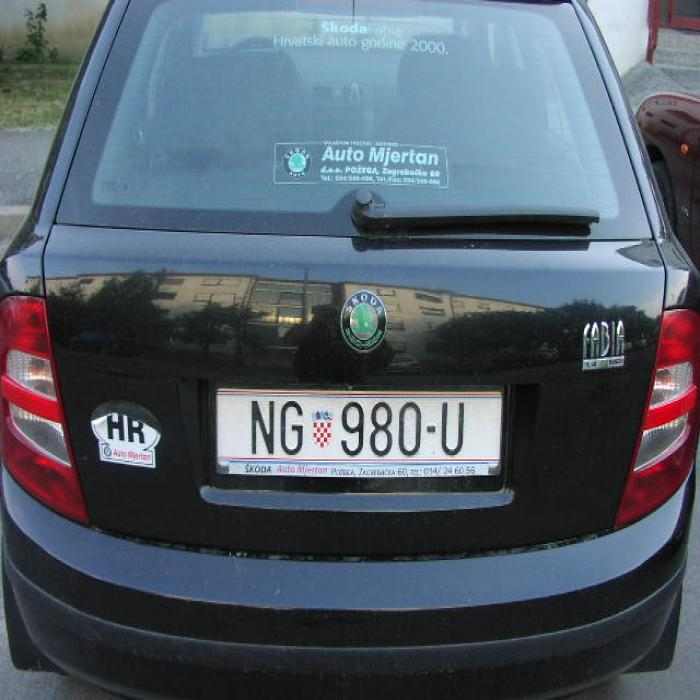number_plate: (214, 389, 499, 461)
